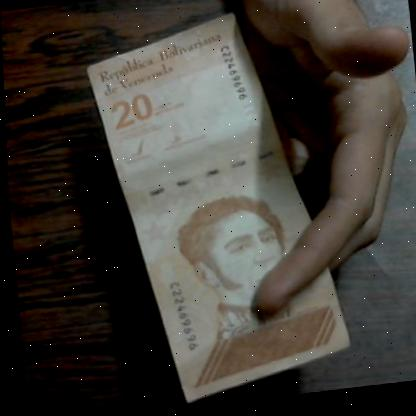twenty-front-vef: (79, 6, 351, 412)
